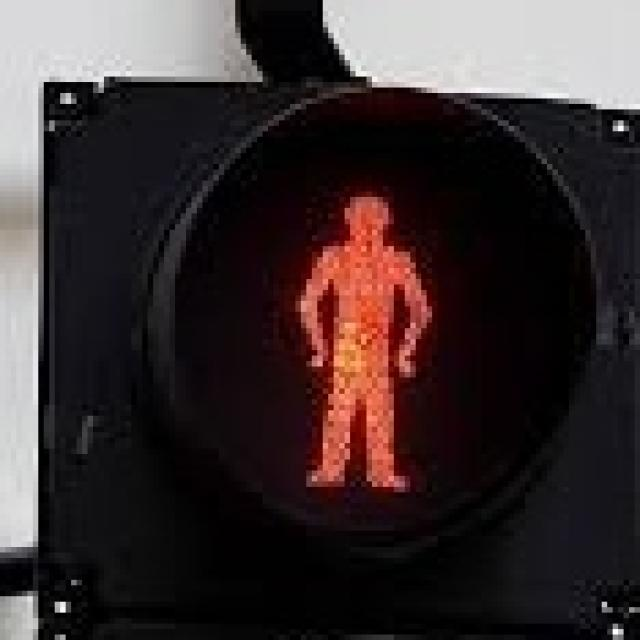red_light: (263, 148, 443, 514)
